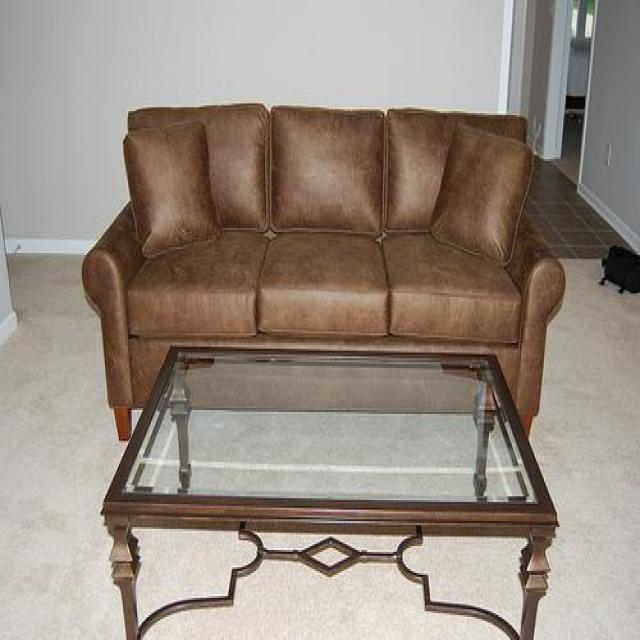sofa: (80, 101, 566, 446)
